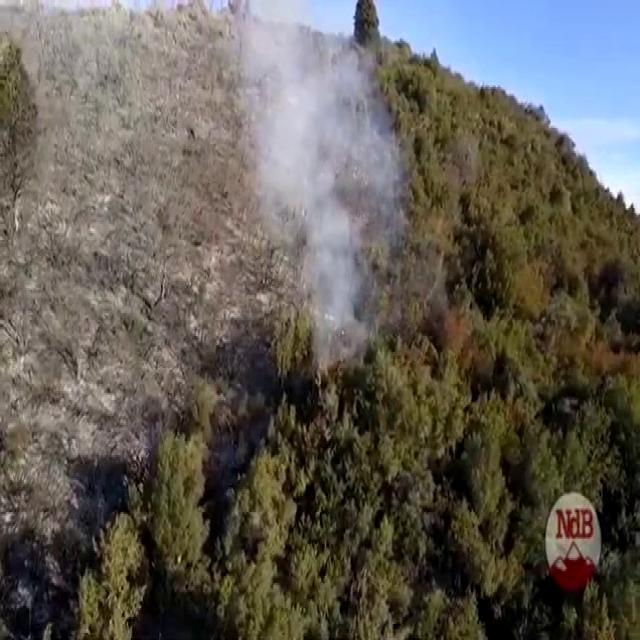Smoke: (240, 0, 397, 373)
